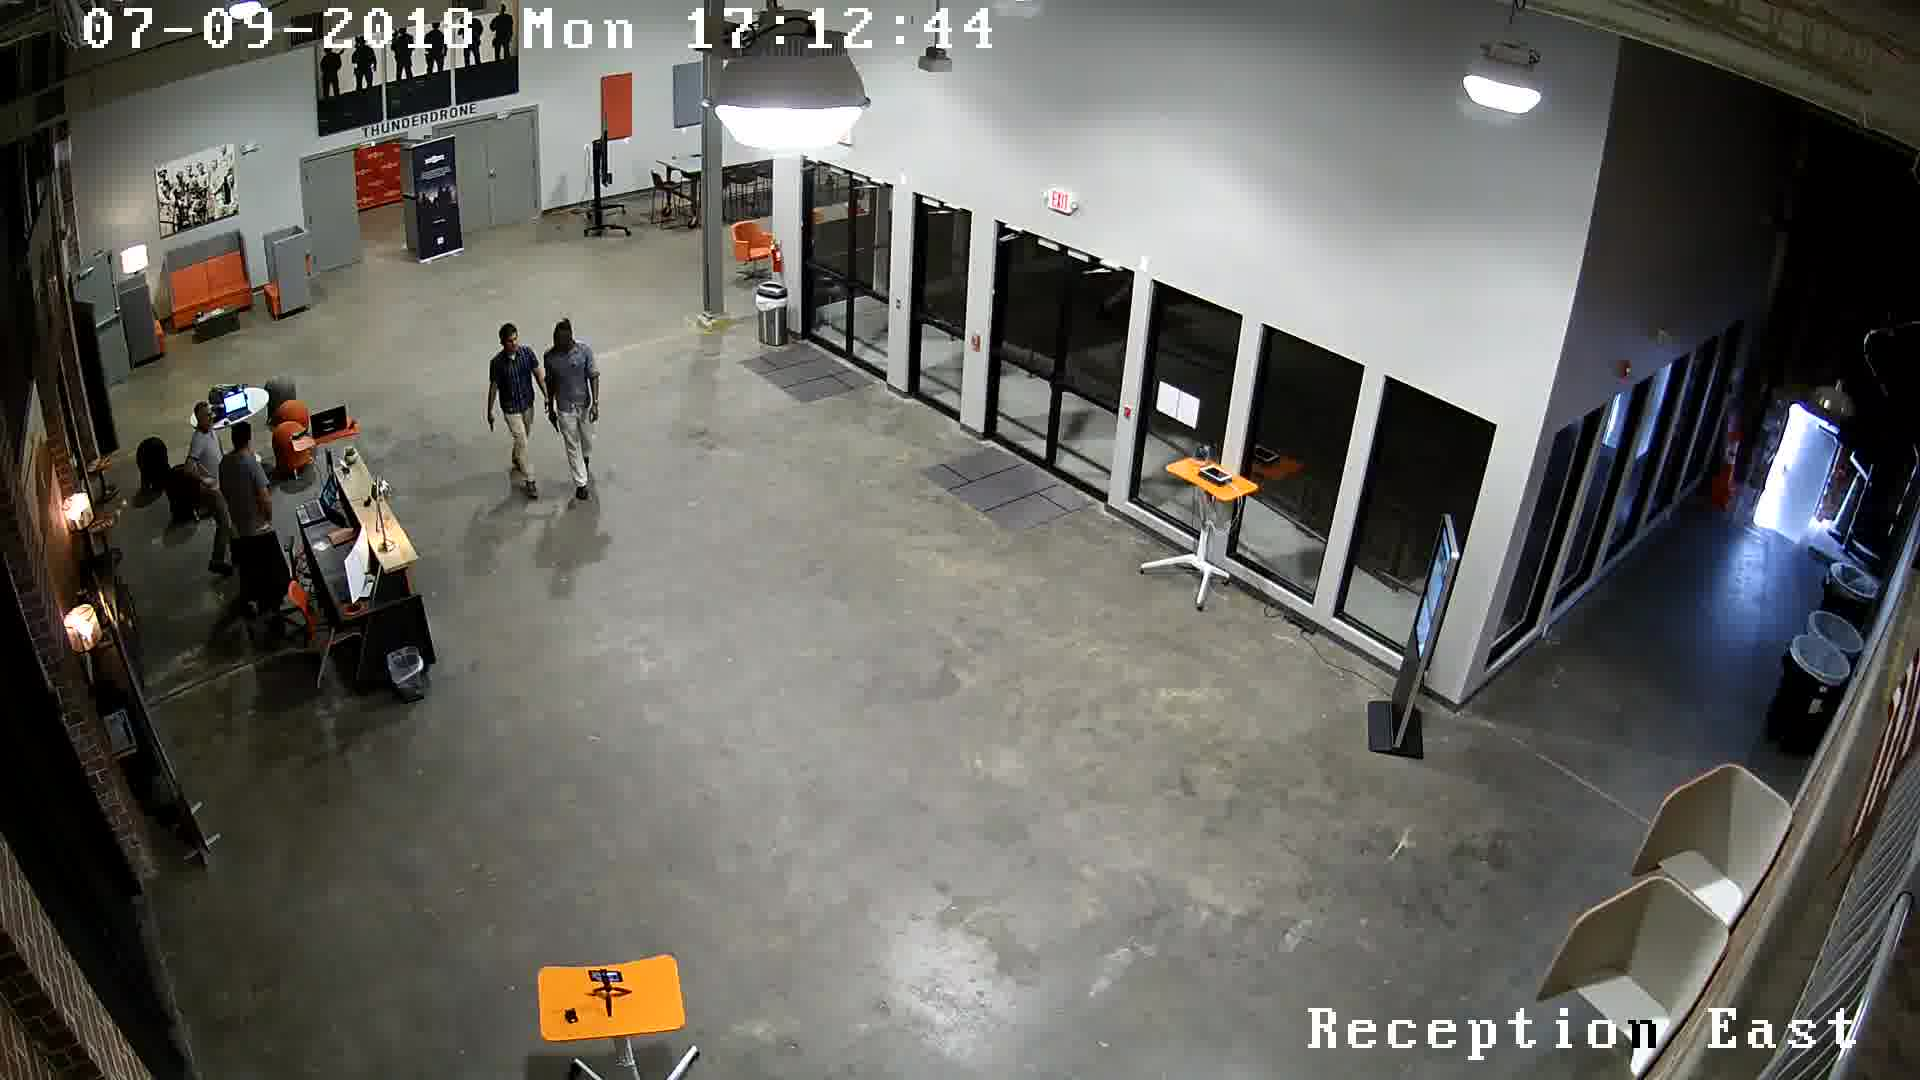pistol: (471, 415, 521, 451), (545, 402, 574, 443)
